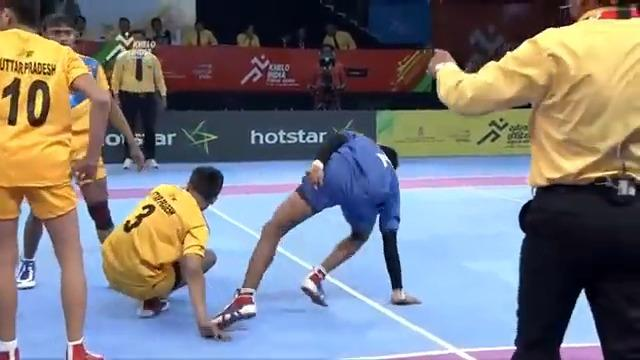Player: (5, 5, 111, 360), (114, 152, 218, 360)
Raider: (211, 126, 423, 326)
referee: (425, 2, 639, 358)
